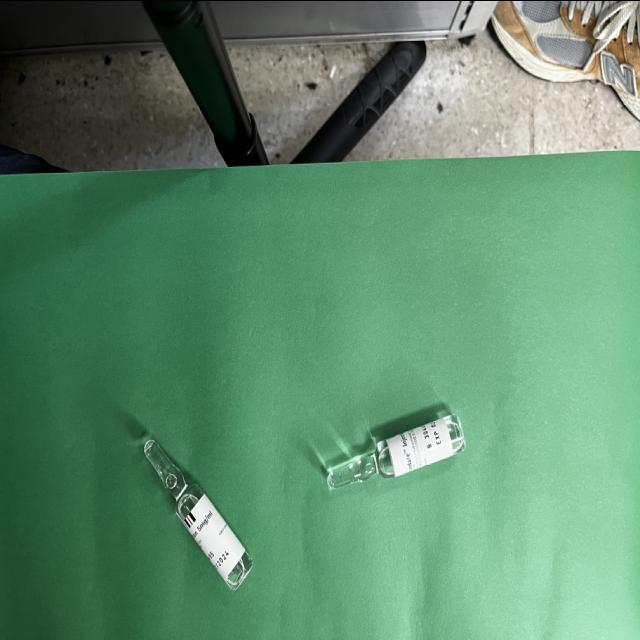Ampoules: (144, 438, 252, 588), (326, 413, 465, 489)
